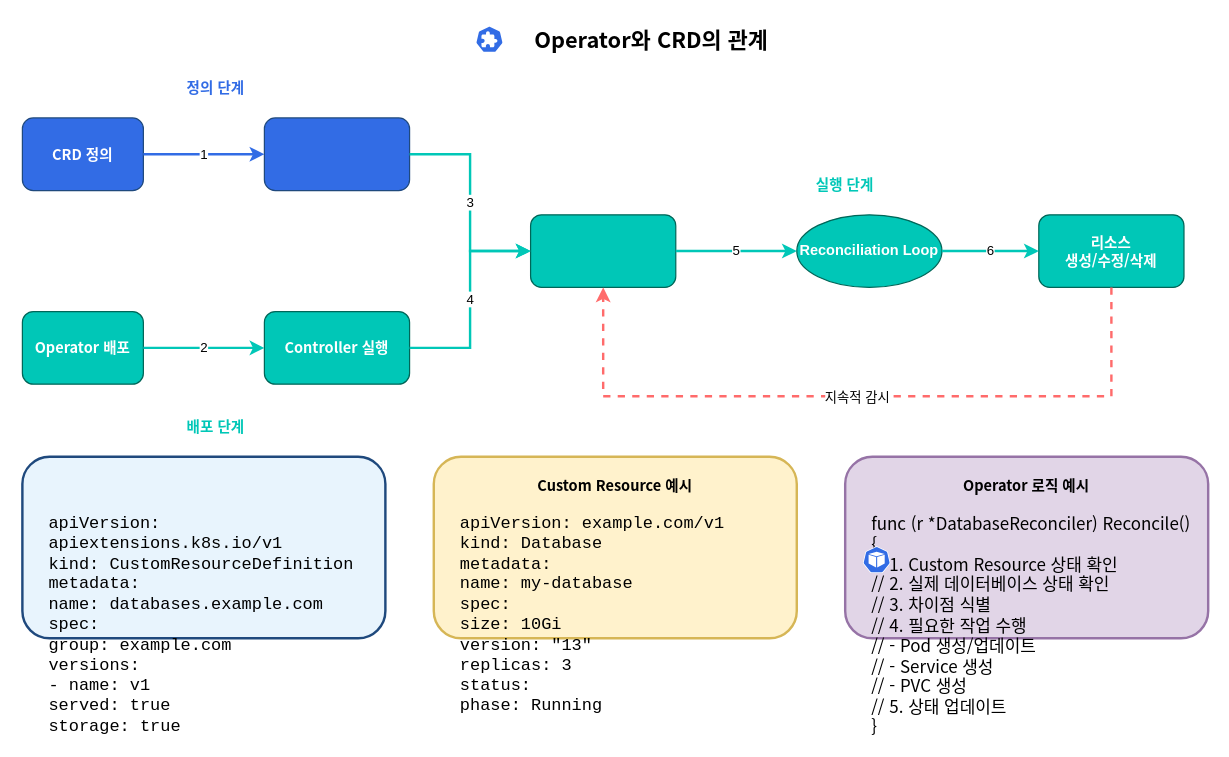
Image size: 1229x757. Some labels were removed from this diagram. The box of each missing label's shape, as (x1, y1, x2, y2) in pixels:
CRD 예시: (21, 455, 386, 639)
Custom Resource 생성: (263, 117, 410, 191)
Operator가 CR 감시: (529, 214, 676, 287)
